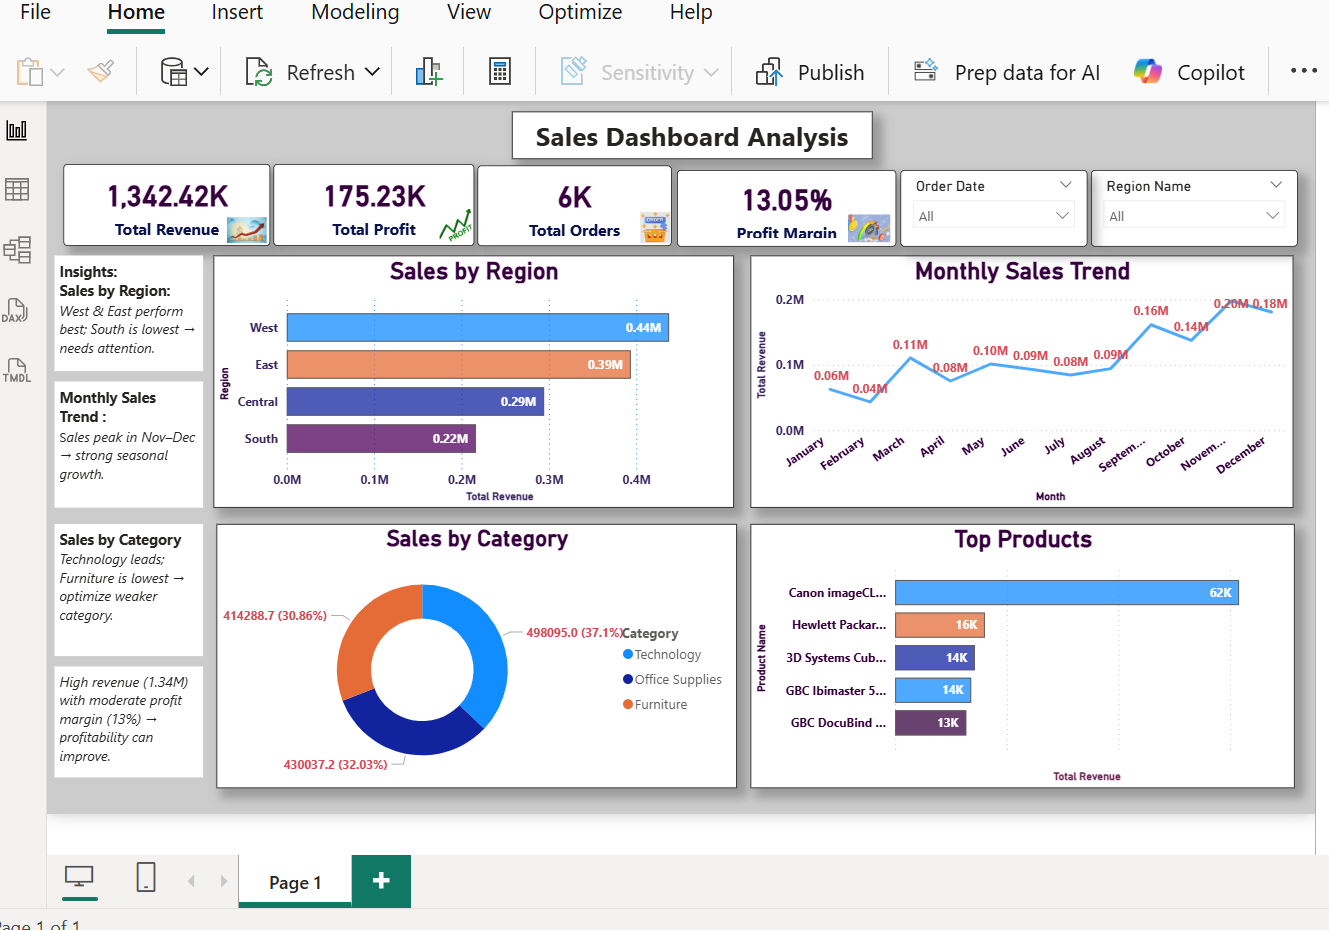

Layout of this report page (visuals, bound fields, positions):
{"tool":"powerbi","page":{"name":"Page 1","canvas":[1280,720],"ordinal":0},"visuals":[{"type":"card","fields":{"Values":["Orders.Total Revenue"]},"box":[17.1,64.3,208.6,82.9],"z":0},{"type":"textbox","box":[469.2,11.1,364.2,47.7],"z":1000},{"type":"card","fields":{"Values":["Orders.Total Profit"]},"box":[228.6,64.3,202.9,82.9],"z":2000},{"type":"card","fields":{"Values":["Orders.Total Orders"]},"box":[434.3,65.7,195.7,81.4],"z":3000},{"type":"card","fields":{"Values":["Orders.Profit Margin"]},"box":[635.7,70,221.4,77.1],"z":4000},{"type":"clusteredBarChart","title":"Sales by Region","fields":{"Category":["Orders.Region"],"Y":["Orders.Total Revenue"]},"box":[168.1,156,525.4,254.4],"z":5000},{"type":"lineChart","title":"Monthly Sales Trend","fields":{"Category":["Orders.Order Date.Variation.Date Hierarchy.Year","Orders.Order Date.Variation.Date Hierarchy.Month"],"Y":["Orders.Total Revenue"]},"box":[710.2,156,548.1,254.4],"z":6000},{"type":"donutChart","title":"Sales by Category","fields":{"Category":["Orders.Category"],"Y":["Orders.Total Revenue"]},"box":[171.1,427,525.4,266.5],"z":7000},{"type":"clusteredBarChart","title":"Top Products ","fields":{"Category":["Orders.Product Name"],"Y":["Orders.Total Revenue"]},"box":[710.2,427,549.7,266.5],"z":8000},{"type":"slicer","fields":{"Values":["Orders.Region"]},"box":[1054.3,70,208.6,77.1],"z":9000},{"type":"slicer","fields":{"Values":["Orders.Order Date"]},"box":[861.4,70,188.6,77.1],"z":10000},{"type":"image","box":[181.4,105.7,40,48.6],"z":11000},{"type":"image","box":[587.1,111.4,52.9,31.4],"z":12000},{"type":"image","box":[808.6,110,42.9,35.7],"z":13000},{"type":"image","box":[394.3,108.6,37.1,32.9],"z":14000},{"type":"textbox","box":[7.6,156,149.9,116.6],"z":14001},{"type":"textbox","box":[7.6,283.2,149.9,127.2],"z":14002},{"type":"textbox","box":[7.6,427,149.9,133.3],"z":14003},{"type":"textbox","box":[7.6,570.9,149.9,112.1],"z":14004}]}

Visuals, with their boxes in screenshot pixels (x1, y1, x2, y2):
card - Orders.Total Revenue: 62, 164, 268, 246
textbox: 508, 111, 868, 158
card - Orders.Total Profit: 271, 164, 471, 246
card - Orders.Total Orders: 474, 165, 667, 246
card - Orders.Profit Margin: 673, 170, 891, 246
"Sales by Region" clusteredBarChart: 211, 254, 730, 506
"Monthly Sales Trend" lineChart: 746, 254, 1288, 506
"Sales by Category" donutChart: 214, 522, 733, 785
"Top Products " clusteredBarChart: 746, 522, 1289, 785
slicer - Orders.Region: 1086, 170, 1292, 246
slicer - Orders.Order Date: 896, 170, 1082, 246
image: 224, 205, 264, 253
image: 625, 210, 677, 241
image: 844, 209, 886, 244
image: 434, 208, 471, 240
textbox: 52, 254, 201, 370
textbox: 52, 380, 201, 506
textbox: 52, 522, 201, 654
textbox: 52, 664, 201, 775
